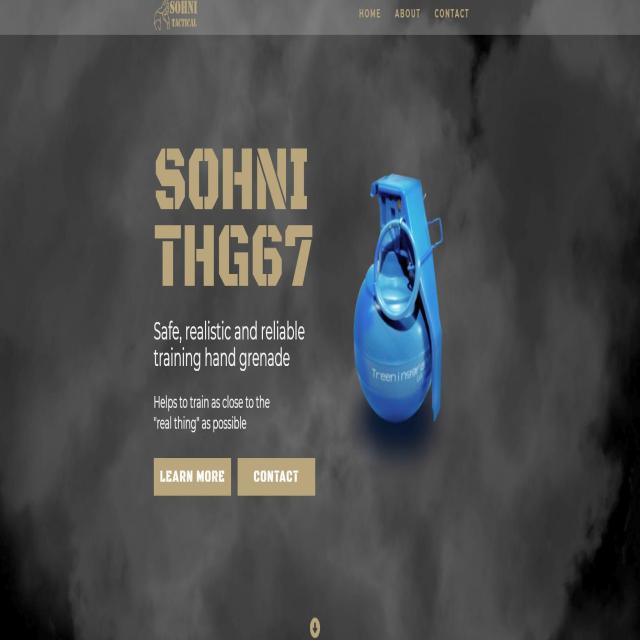grenade: (355, 172, 445, 427), (154, 1, 201, 33)
